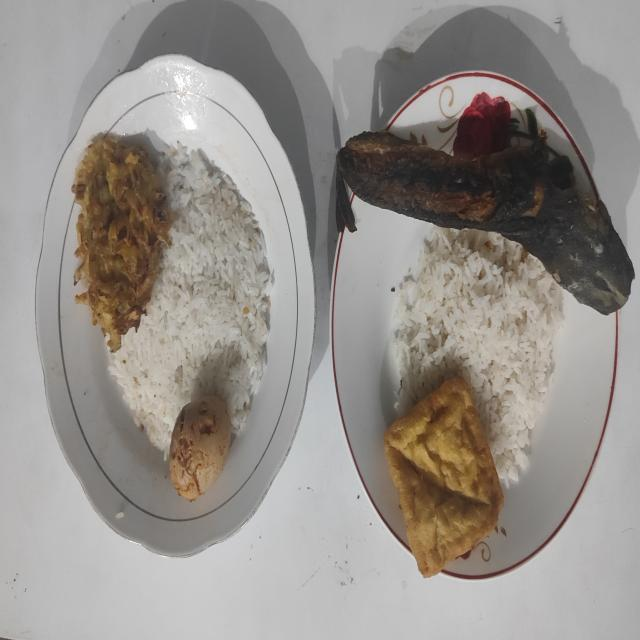nasi_putih: (109, 141, 274, 456), (388, 227, 564, 487)
tahu_goreng: (384, 378, 504, 577)
